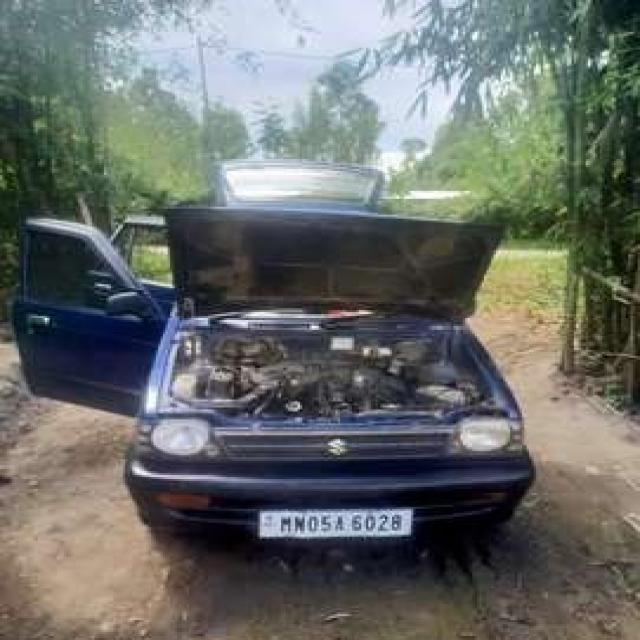plate: (258, 509, 414, 538)
